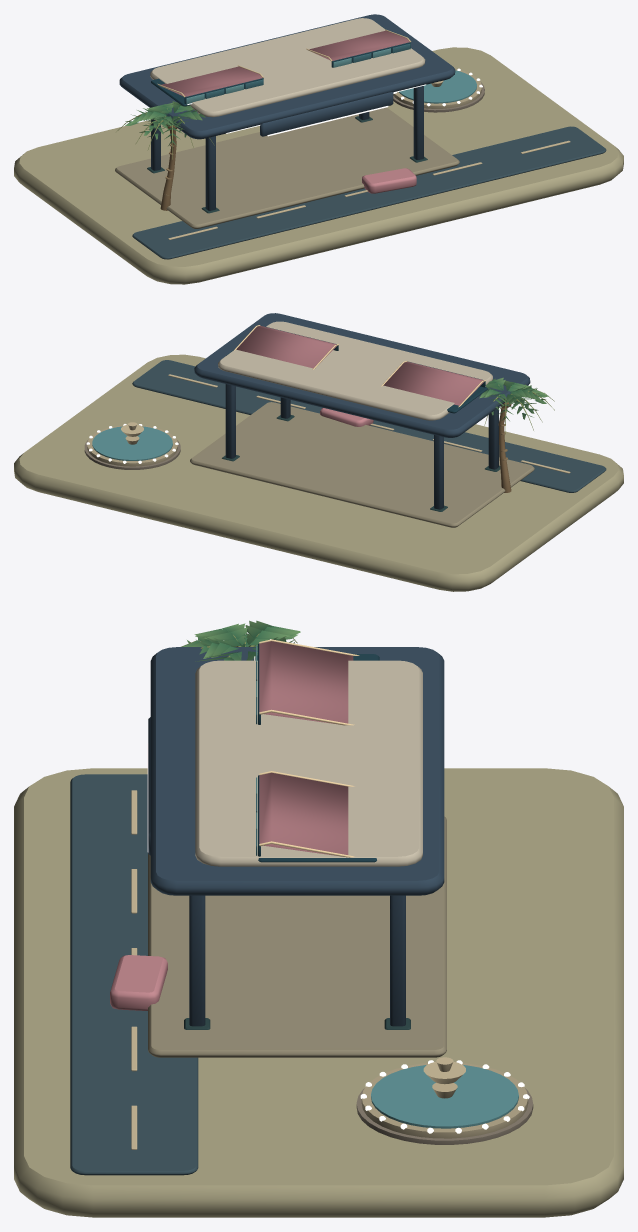
File: luxury_atlas.glb
The picture shows the model from 3 angles, top to bottom: view 1: azimuth 30°, elevation 25°; view 2: azimuth 150°, elevation 25°; view 3: azimuth 270°, elevation 25°; orthographic projection. The views are drawn at different scales.
Visible parts, largest first — view 1: LuxuryAtlas; view 2: LuxuryAtlas; view 3: LuxuryAtlas.
Part boxes in pixels (x1,y1,x2,y2): LuxuryAtlas: (14, 14, 623, 284); LuxuryAtlas: (14, 313, 623, 591); LuxuryAtlas: (14, 620, 623, 1217).
Bounding box in the file's own units: 10.8 × 2.78 × 6.54.
